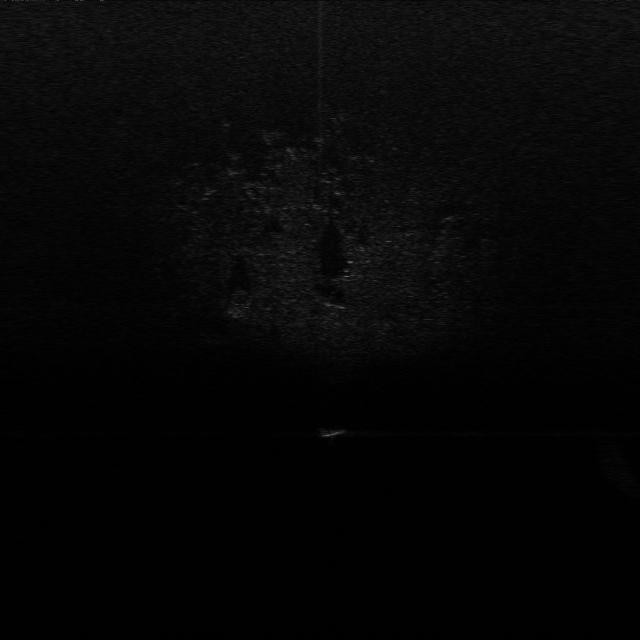square cage: (314, 418, 356, 442)
